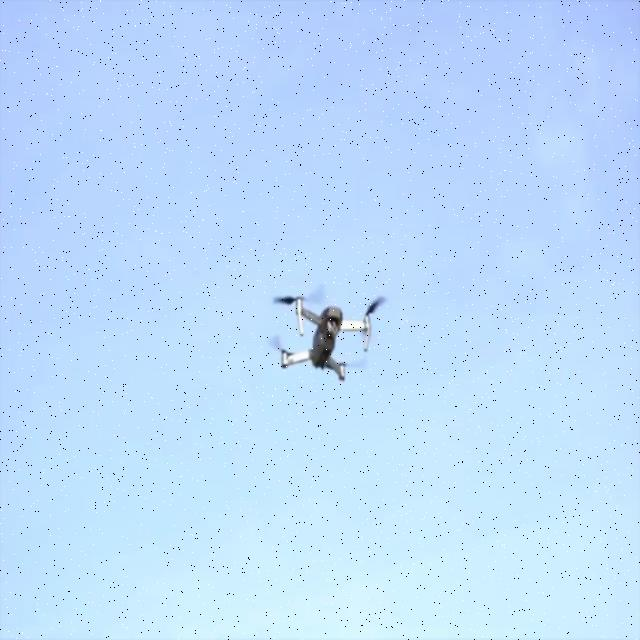UAV: (268, 287, 388, 383)
